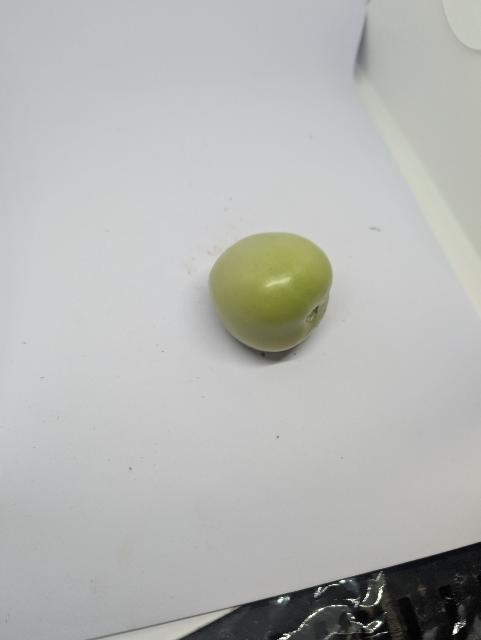green: (205, 229, 337, 353)
